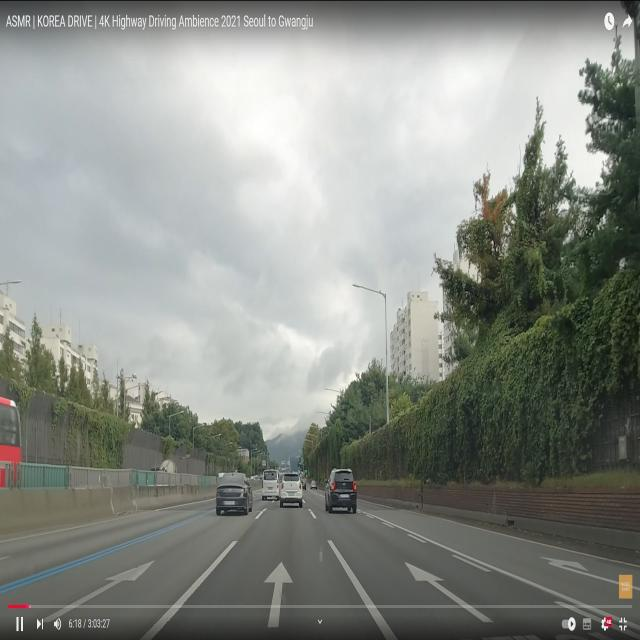forward: (145, 559, 388, 631)
